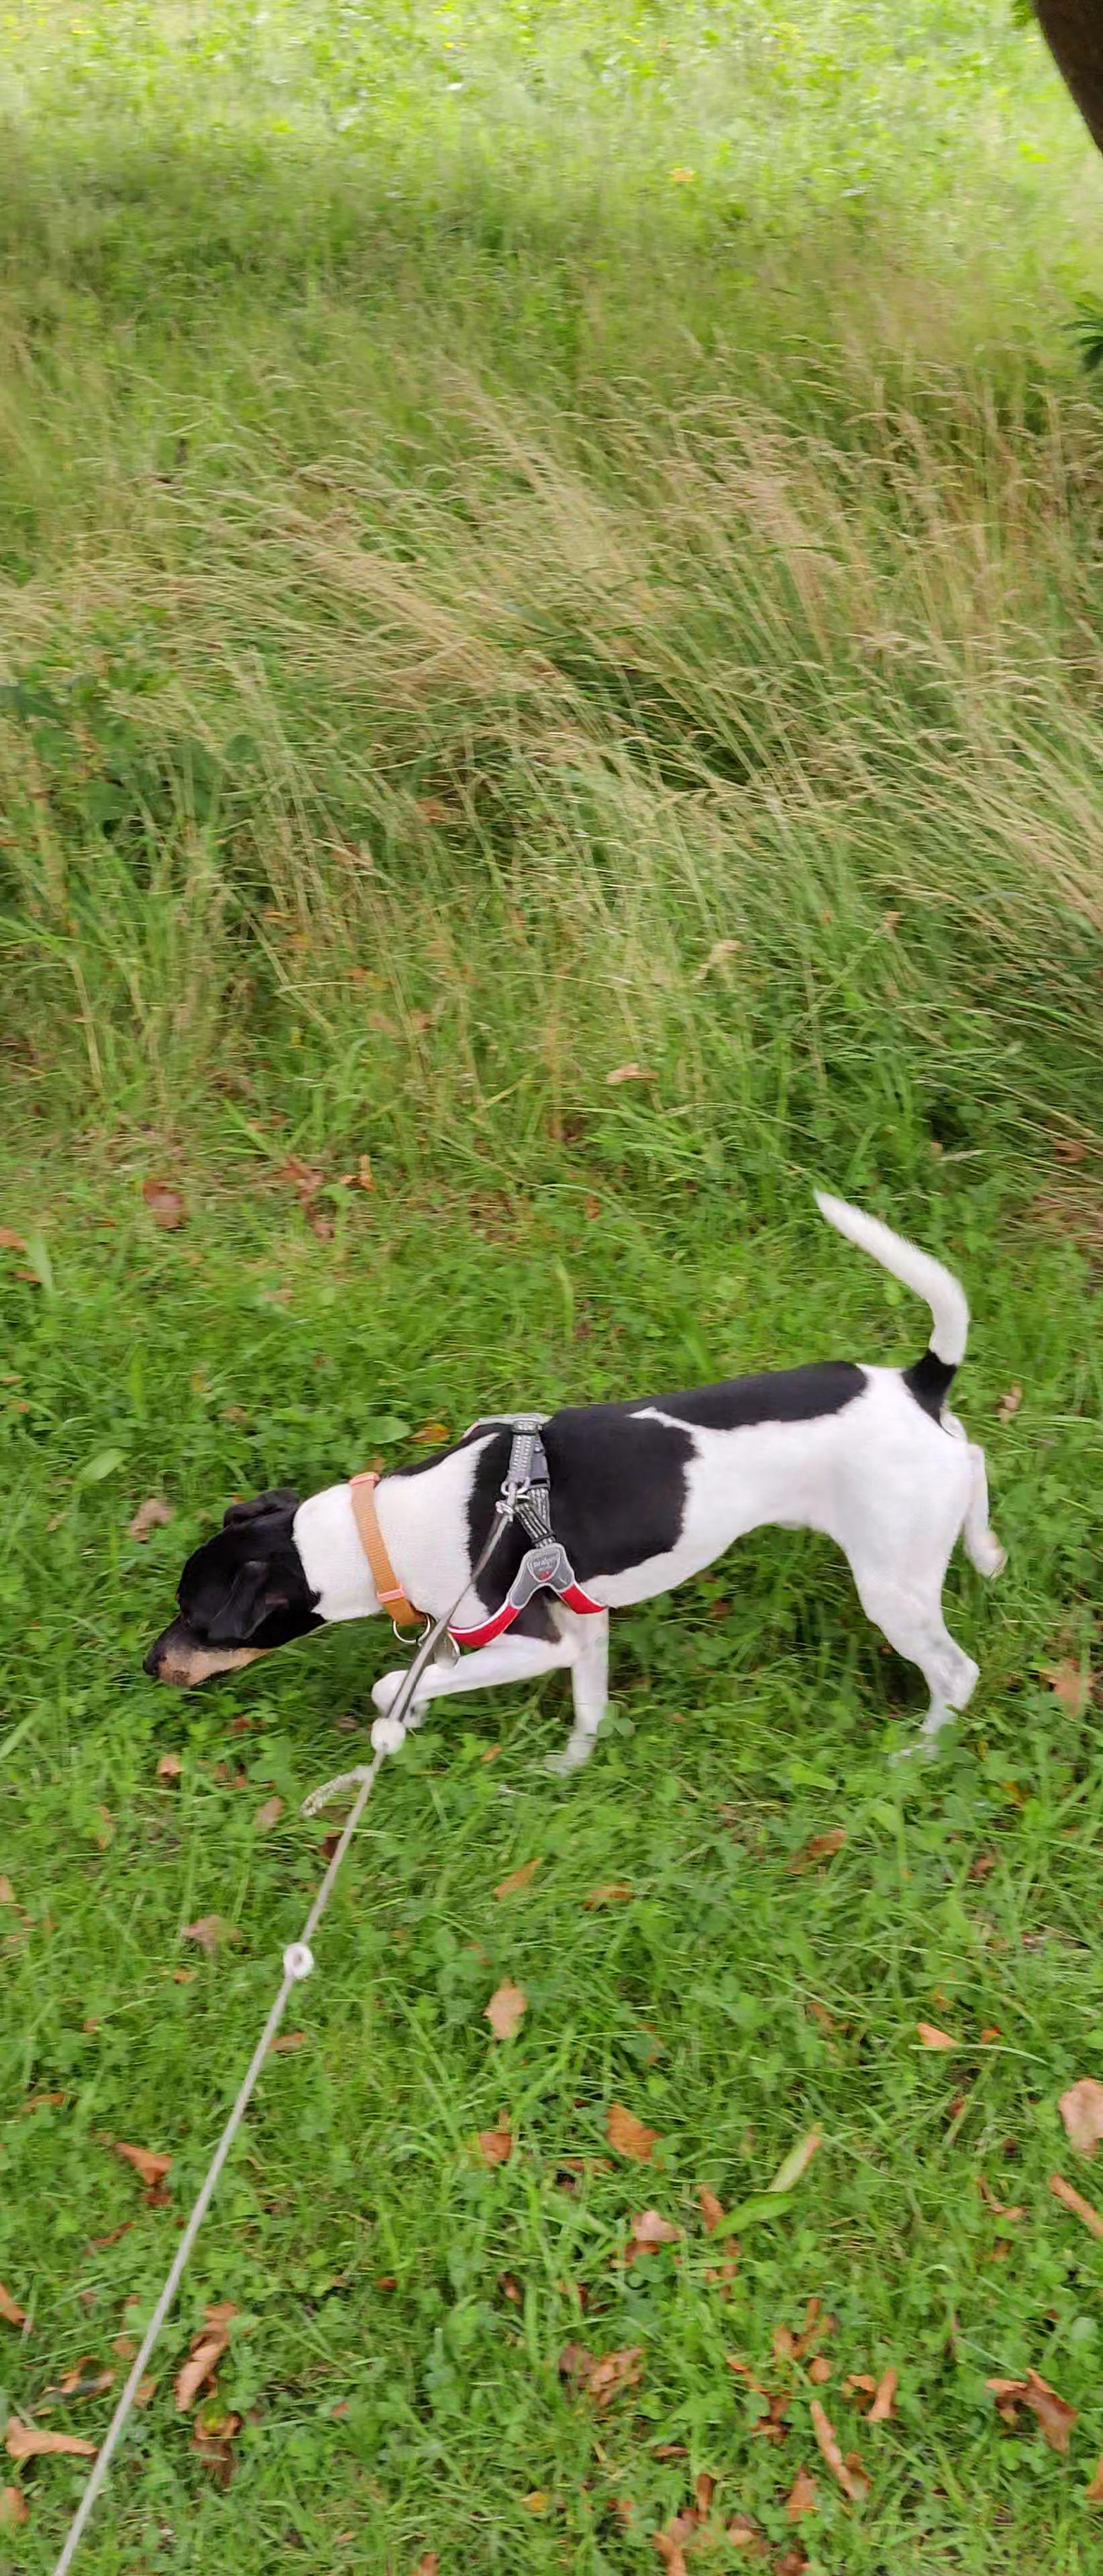Dog: (123, 1178, 1044, 1779)
